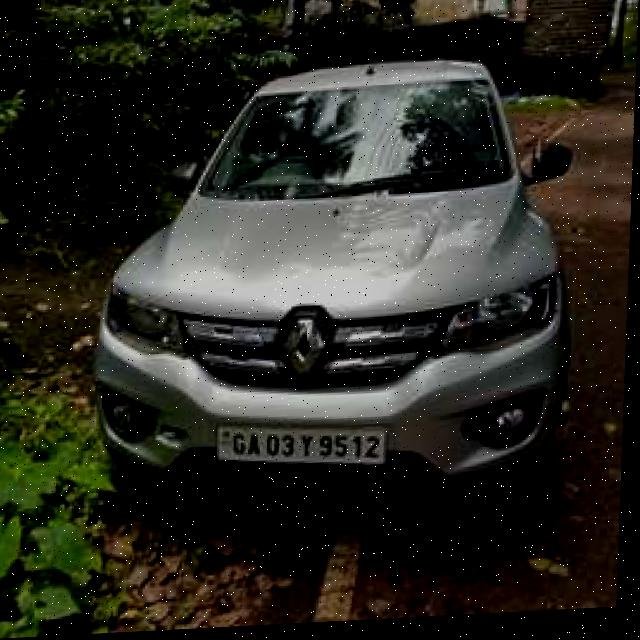plate: (218, 421, 390, 477)
